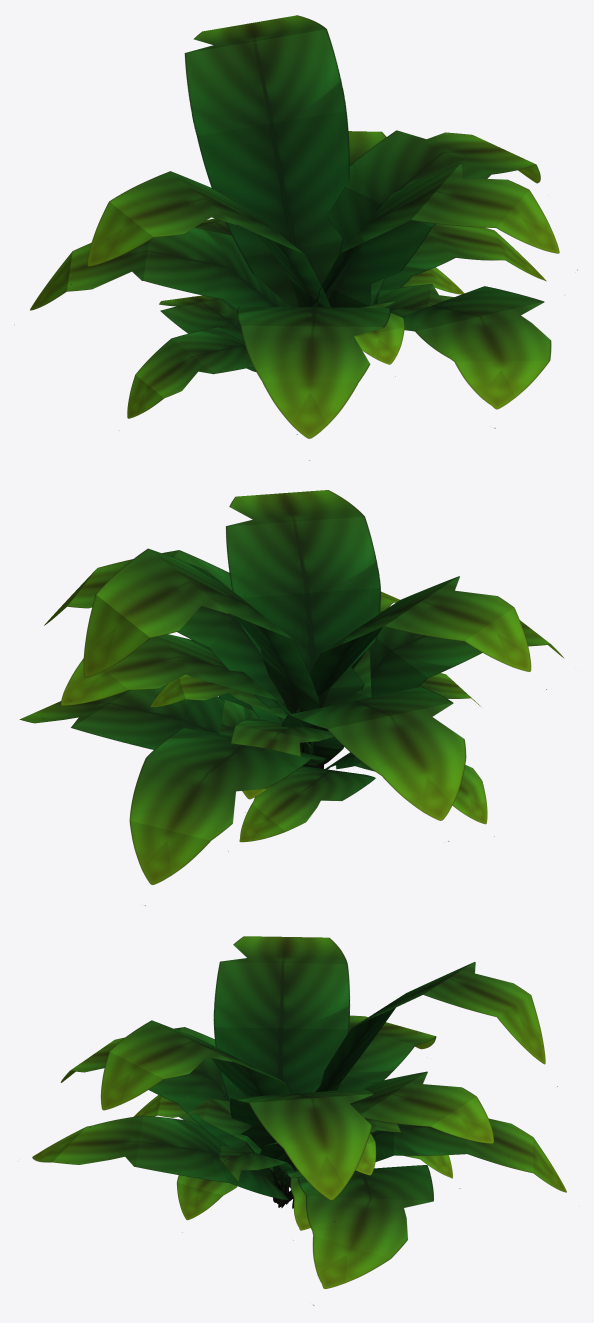
File: SM_Plant_B.glb
3 views of the same model, one above another, from view 1: azimuth 30°, elevation 25°; view 2: azimuth 150°, elevation 25°; view 3: azimuth 270°, elevation 25° (orthographic). The views are drawn at different scales.
Visible parts, largest first — view 1: SM_Plant_B; view 2: SM_Plant_B; view 3: SM_Plant_B.
Part boxes in pixels (bbox=[...]): SM_Plant_B: bbox=[30, 15, 577, 460]; SM_Plant_B: bbox=[19, 490, 563, 905]; SM_Plant_B: bbox=[32, 936, 566, 1305].
Bounding box in the file's own units: 2.28 × 1.21 × 2.46.
1 material, 1 textured.
